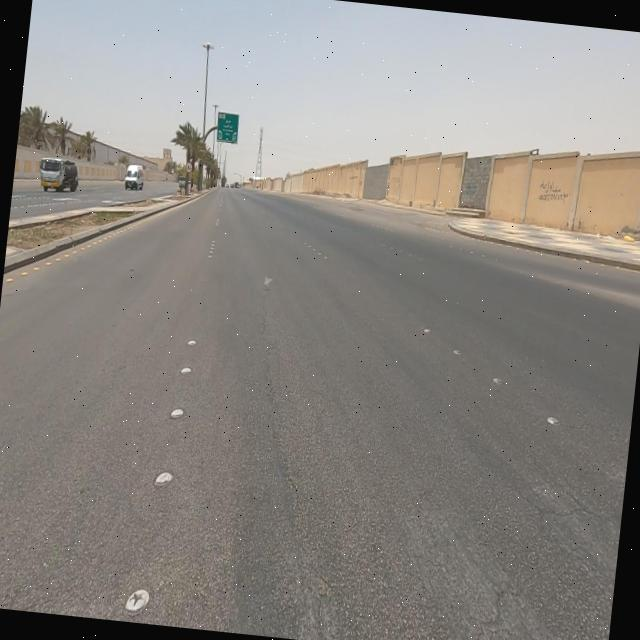Graffiti: (537, 179, 570, 210)
